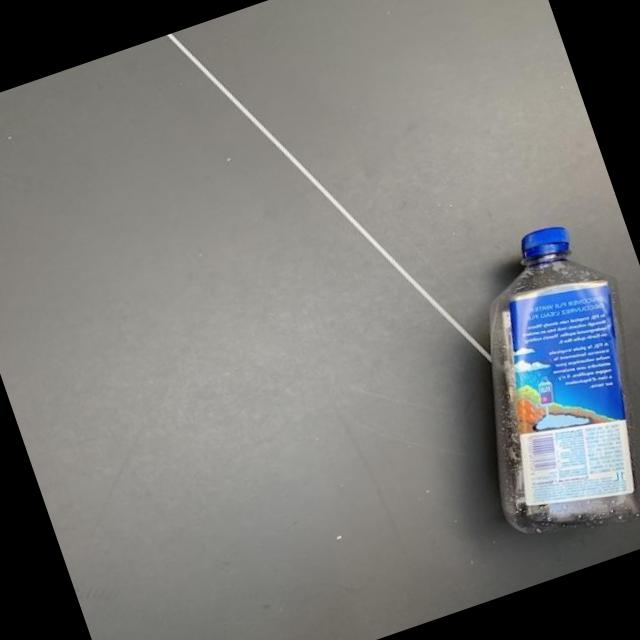BotolPlastik: (417, 209, 640, 559)
